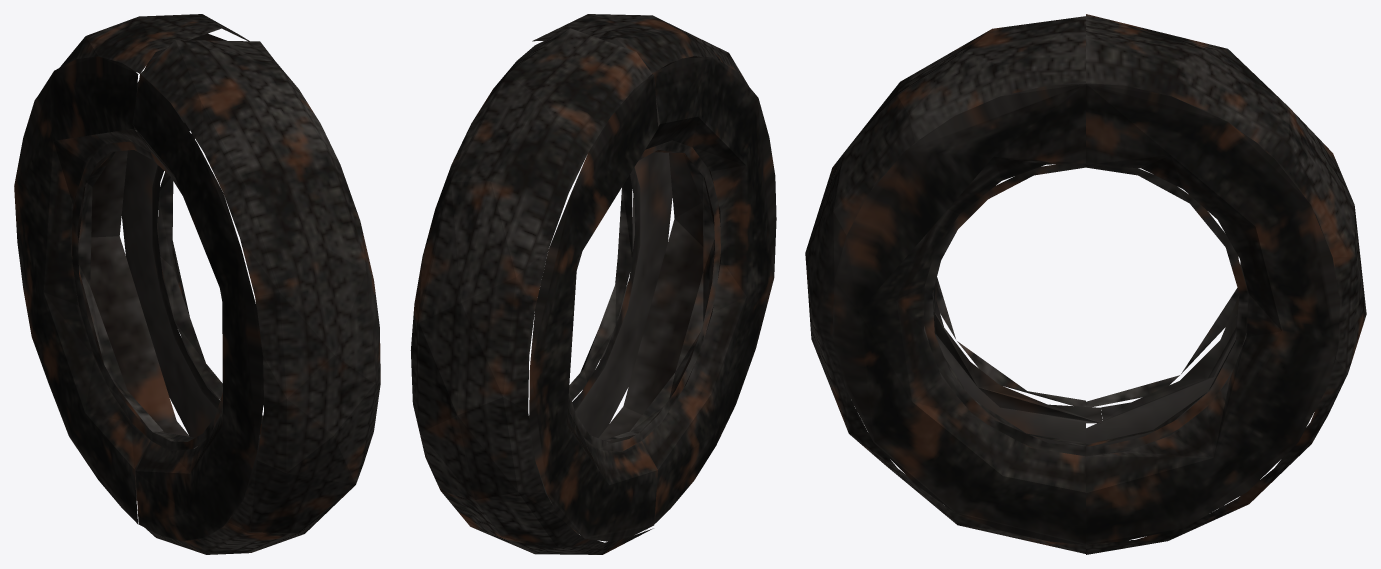
File: prop_tyre.glb
3 views of the same model, side by side, from view 1: azimuth 30°, elevation 25°; view 2: azimuth 150°, elevation 25°; view 3: azimuth 270°, elevation 25° (orthographic). The views are drawn at different scales.
Parts seen in each view (by area): view 1: hull; view 2: hull; view 3: hull.
Boxes of the visible parts, left/top/right/bottom form: hull: left=14, top=14, right=380, bottom=554; hull: left=410, top=14, right=776, bottom=554; hull: left=805, top=14, right=1366, bottom=554.
Size of the model in its own units: 0.553 by 2.02 by 2.
Materials: 1 (1 with a texture image).
